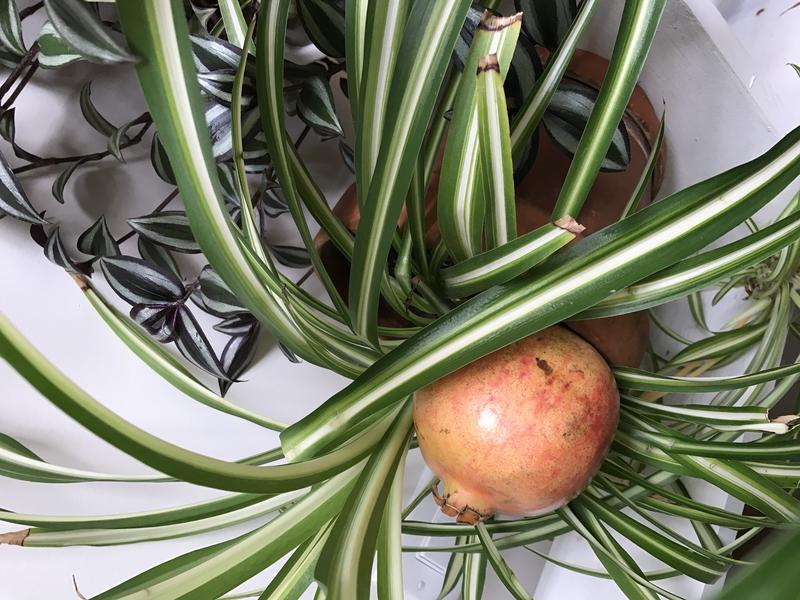pomegranate: (400, 296, 629, 537)
